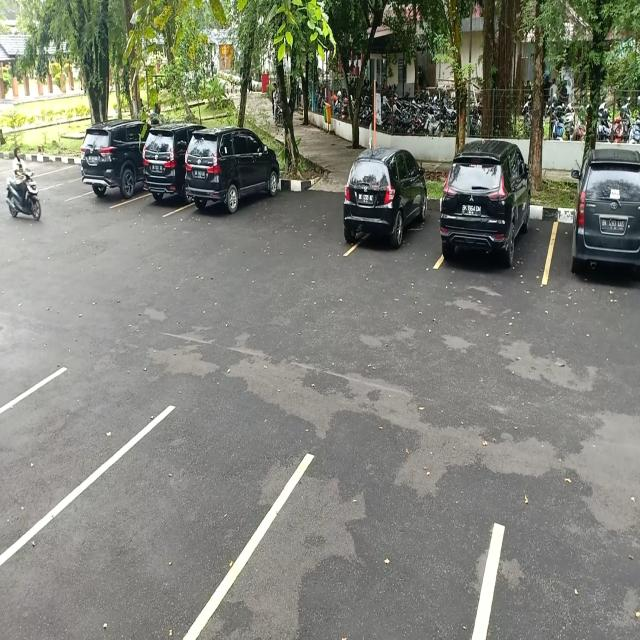empty: (246, 469, 499, 640), (49, 448, 246, 640), (0, 372, 109, 536)
occupied: (436, 196, 549, 281), (544, 186, 640, 284), (340, 182, 440, 265), (75, 126, 144, 211), (136, 132, 184, 217)
